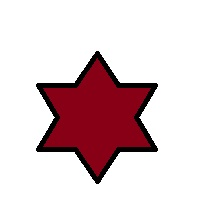star: (35, 51, 158, 184)
